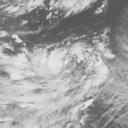cyclone: (2, 36, 104, 126)
